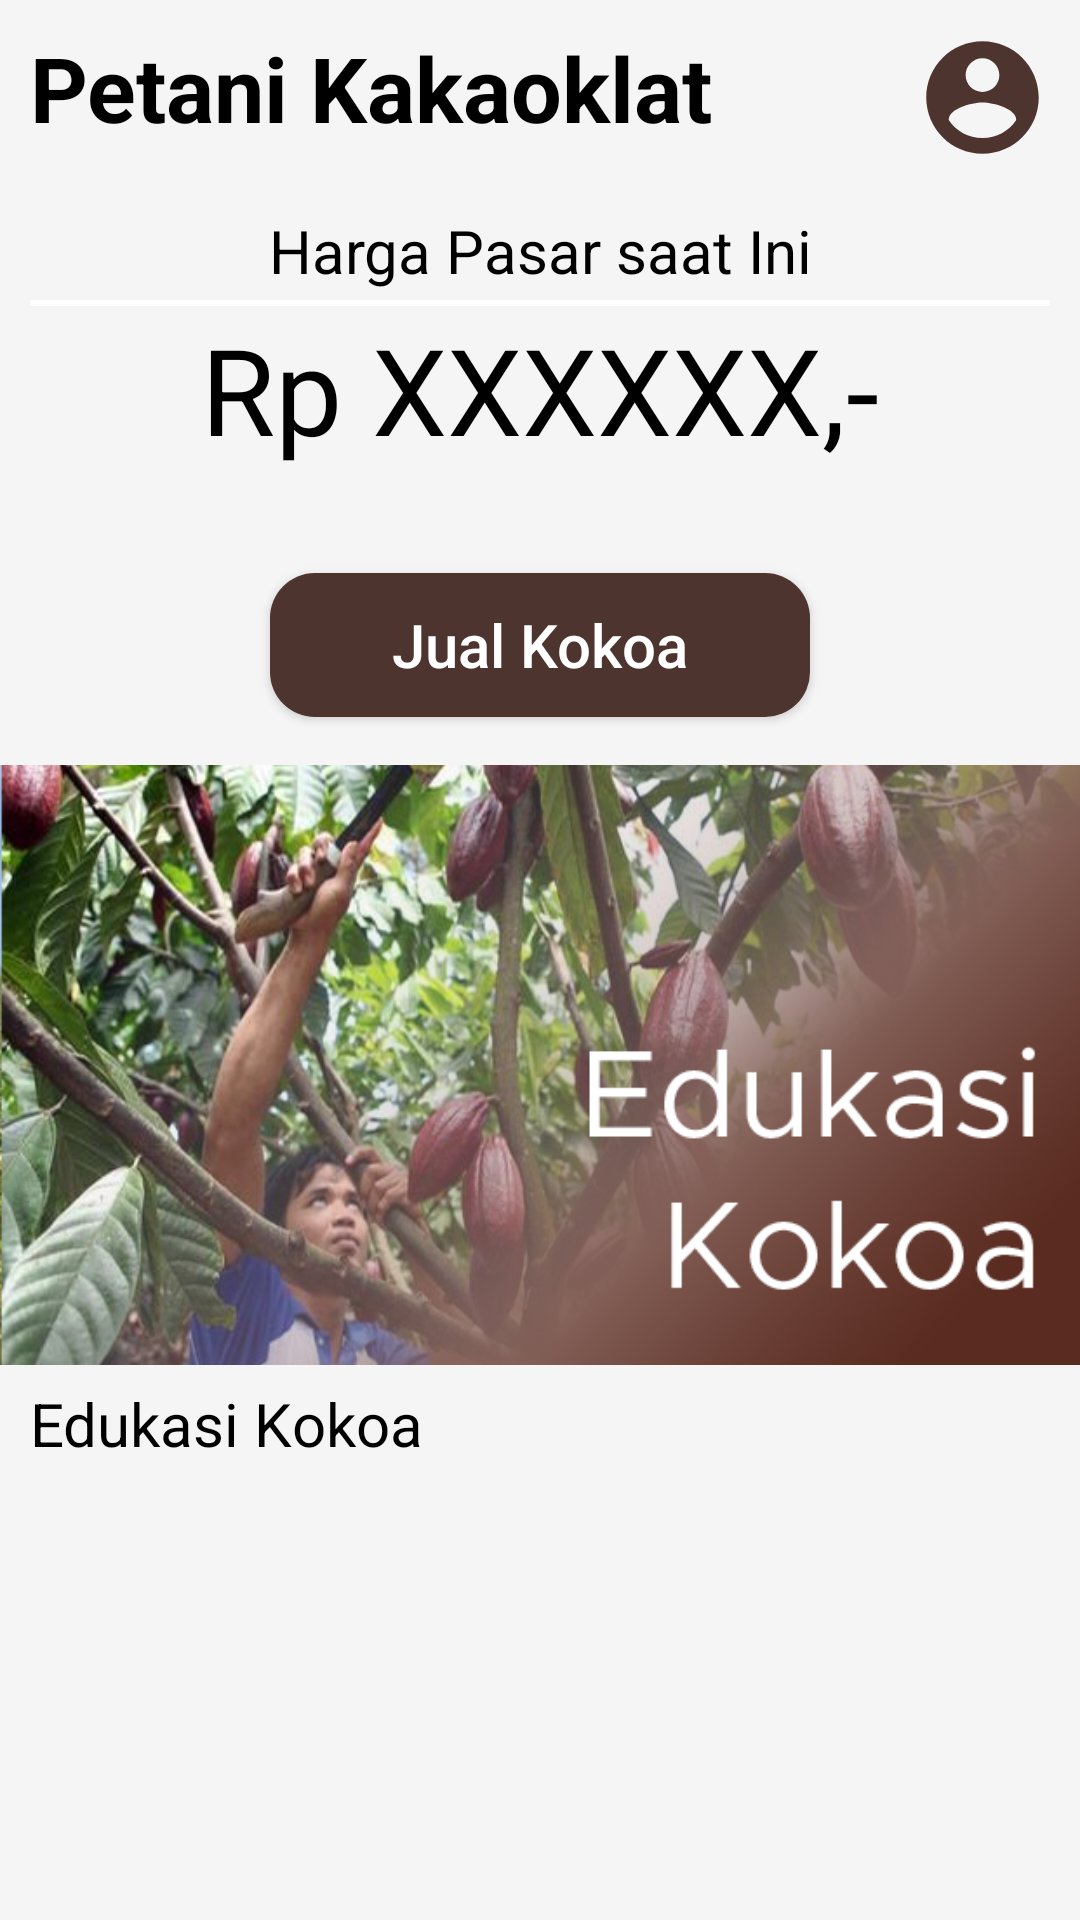

Where to tap for icons on this 1080*1920 app screen, as [x,y]:
account circle: [982,97]
